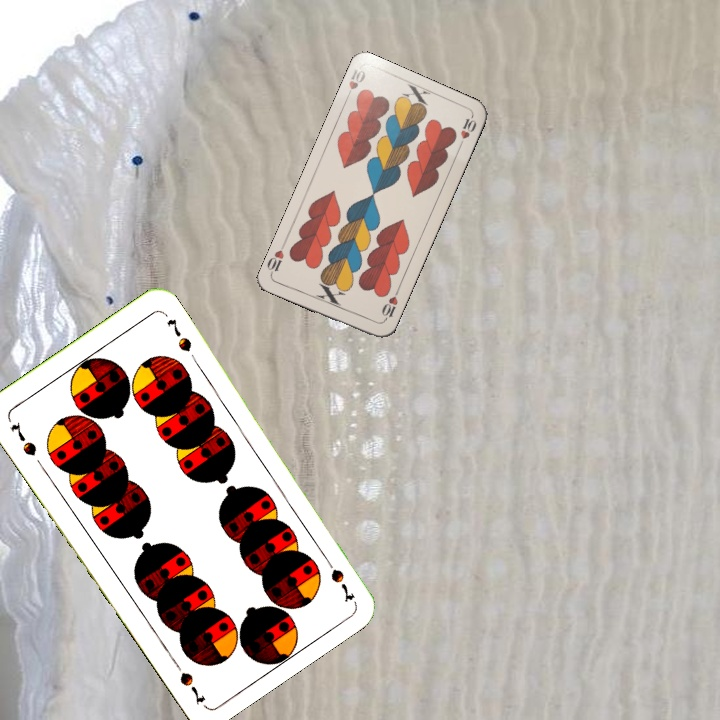H10: (341, 65, 368, 103), (378, 286, 401, 325)
S7: (319, 551, 357, 604), (6, 417, 39, 459)
